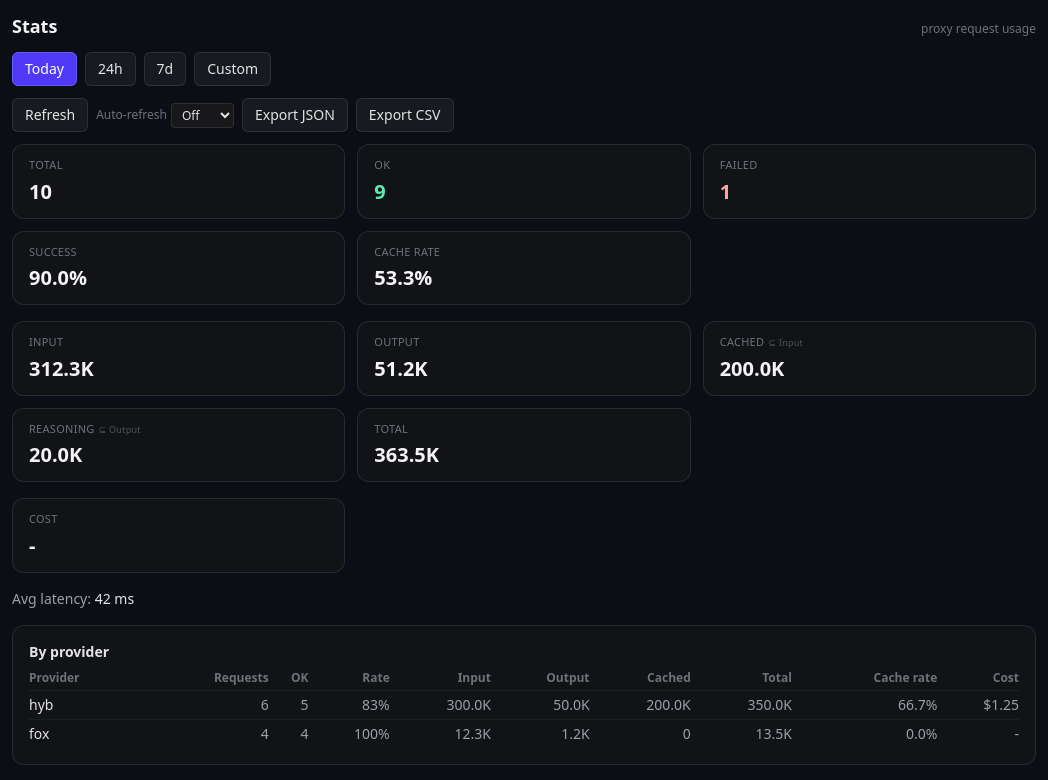
Test: StatsPanel › re-renders with the data of the selected window
Expected: the text "363.5K" is shown, x1=374 y1=441 x2=439 y2=468
Click the button "24h": [110, 69] box x1=85 y1=52 x2=136 y2=86
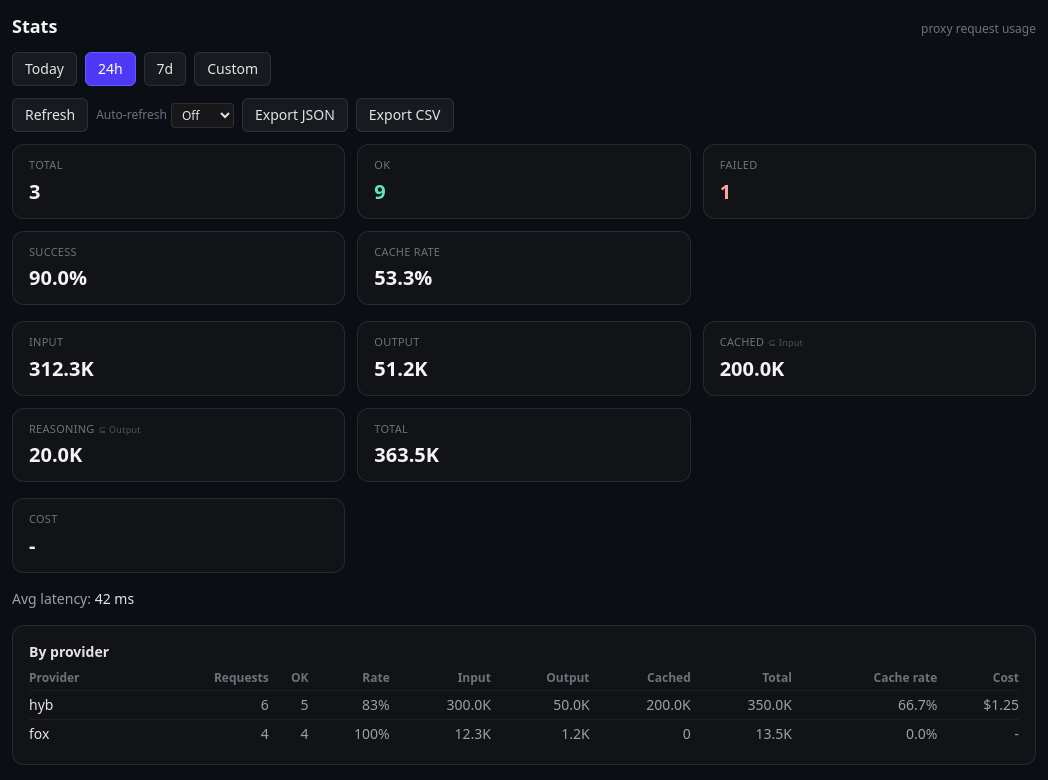
Expected: the text "3" is shown, x1=29 y1=178 x2=40 y2=204
